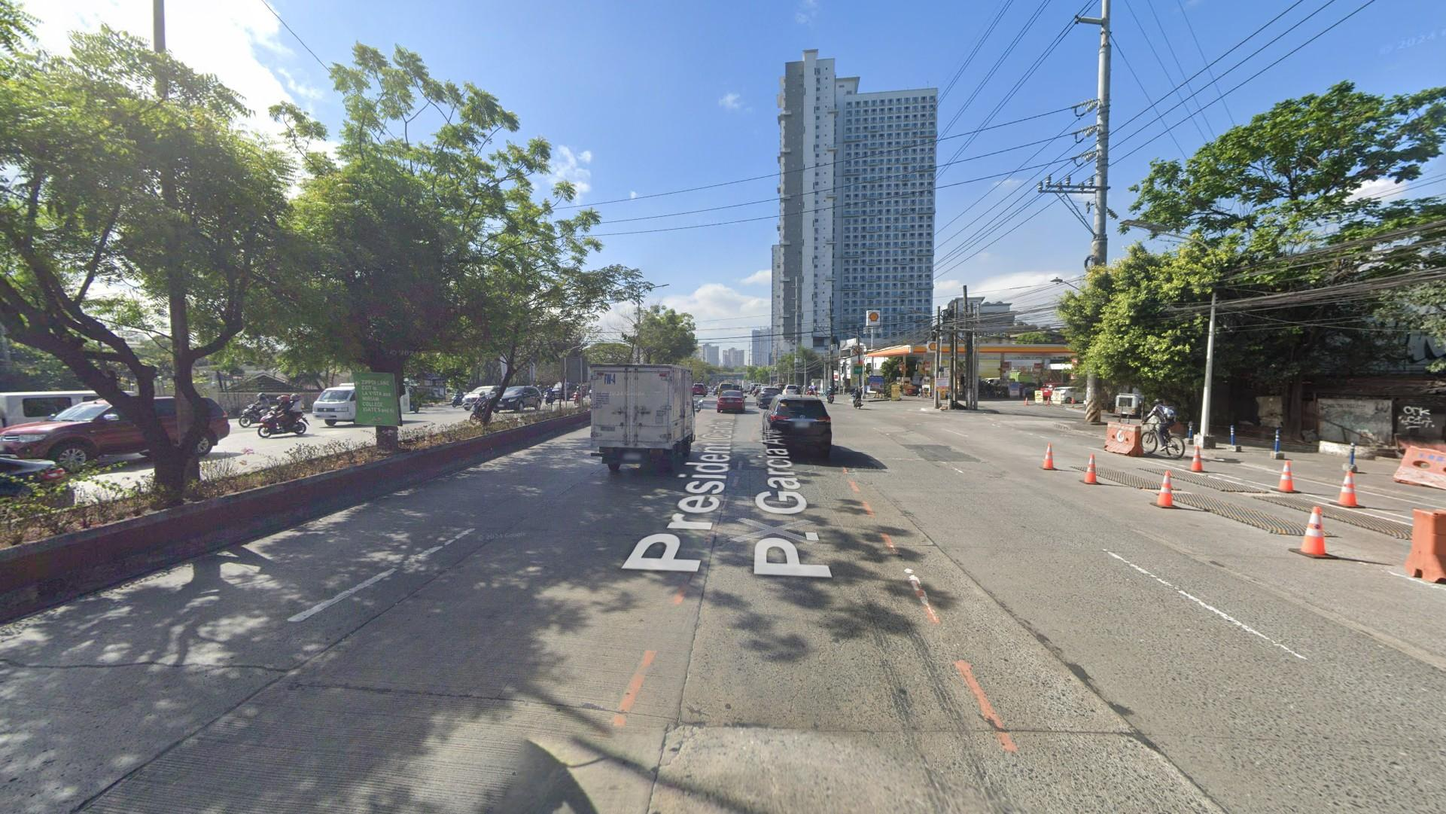cyclist: (1138, 397, 1185, 460)
